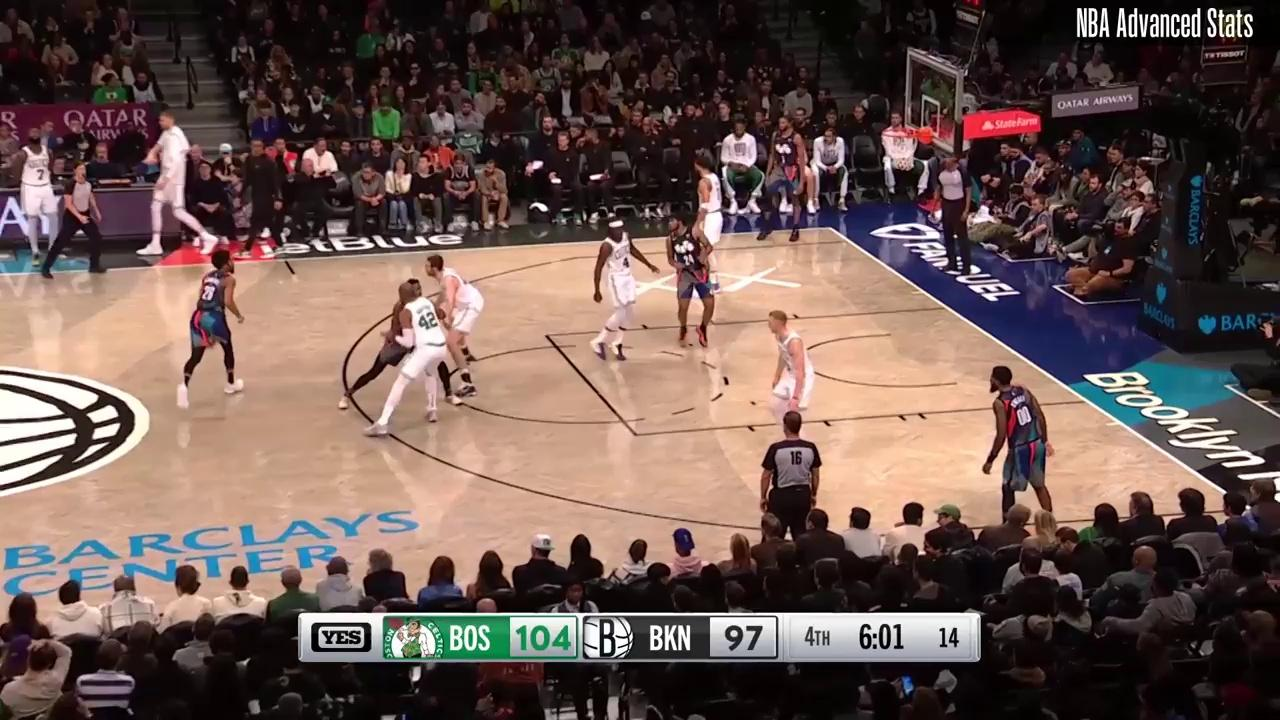3_sx: (843, 237, 852, 246)
b_sx: (826, 224, 834, 233)
free_adx: (631, 430, 643, 440)
free_asx: (542, 331, 553, 342)
free_bdx: (1079, 396, 1091, 406)
free_bsx: (940, 302, 951, 312)
mid_sx: (289, 270, 298, 280)
referee: (754, 410, 822, 550), (37, 162, 106, 277), (933, 156, 974, 272)
team: (364, 283, 446, 436), (592, 213, 657, 361), (427, 250, 484, 399), (764, 310, 815, 447), (692, 154, 724, 289)
team1: (338, 279, 460, 406), (983, 363, 1055, 531), (179, 247, 247, 405), (756, 113, 810, 240), (666, 213, 715, 347)
timer: (856, 616, 909, 657)
